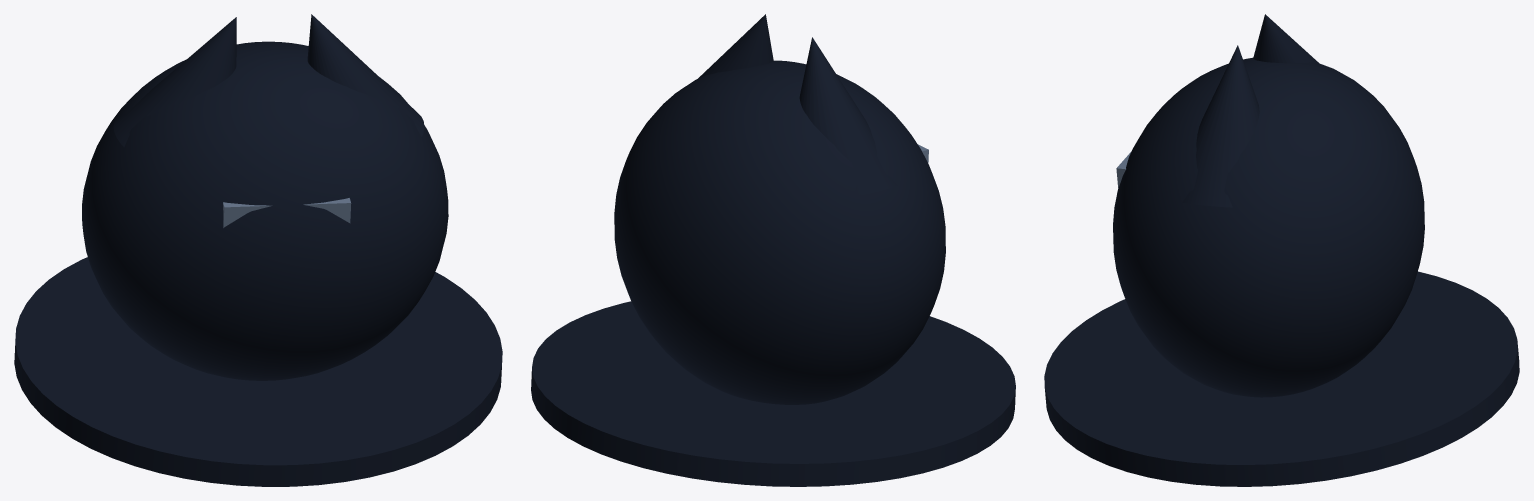
Rendered from Trash.glb.
3 views of the same model, side by side, from view 1: azimuth 30°, elevation 25°; view 2: azimuth 150°, elevation 25°; view 3: azimuth 270°, elevation 25° (orthographic). The views are drawn at different scales.
Bounding box in the file's own units: 2.36 × 2.05 × 2.36.
